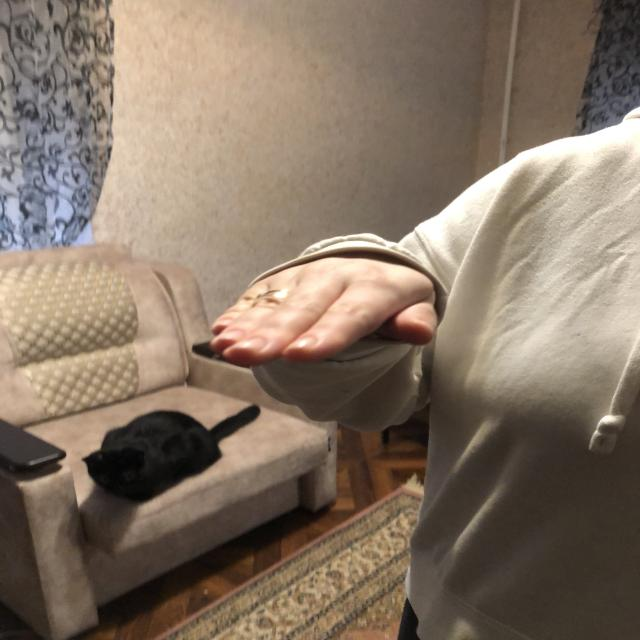paper: (209, 282, 443, 364)
